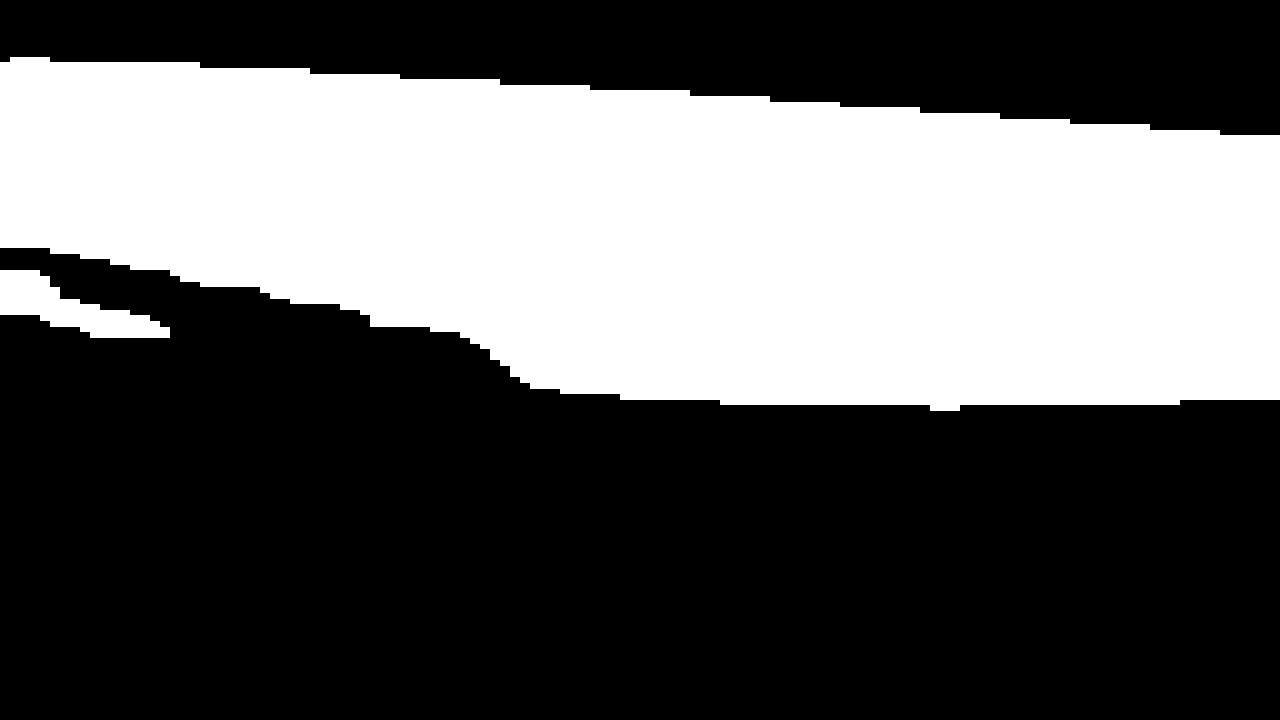Turbine: (12, 40, 1269, 436)
